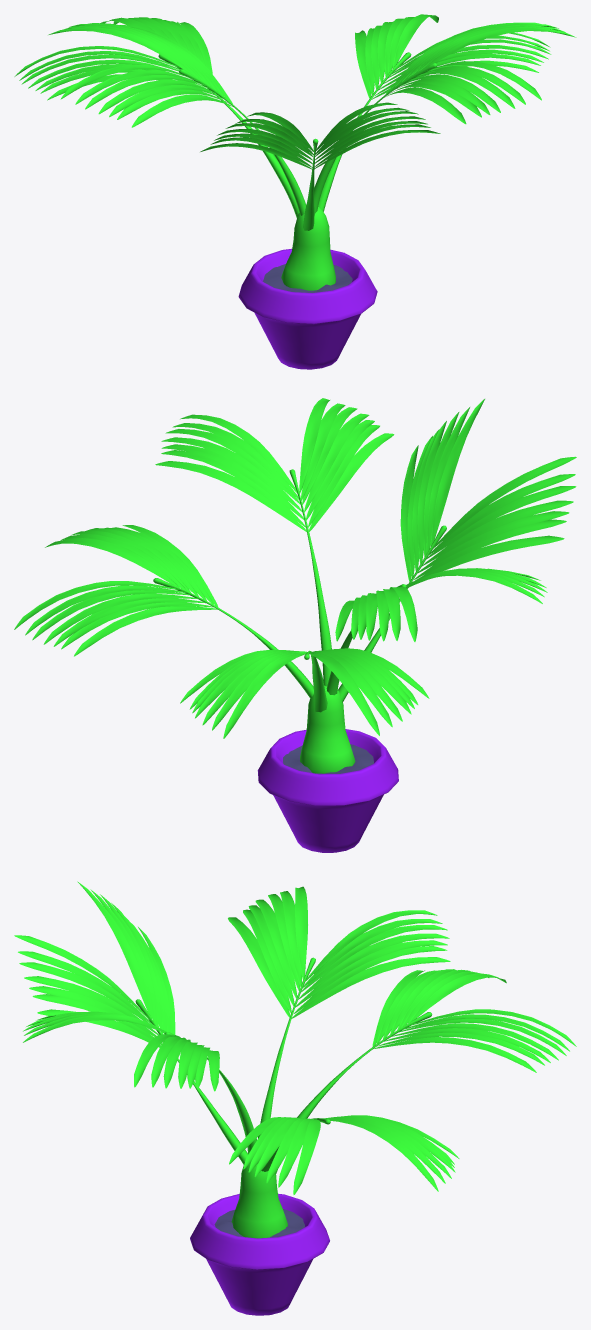
The model's file is cartoon_plant.obj.
The picture shows the model from 3 angles, top to bottom: view 1: azimuth 30°, elevation 25°; view 2: azimuth 150°, elevation 25°; view 3: azimuth 270°, elevation 25°; orthographic projection. The views are drawn at different scales.
Parts seen in each view (by area): view 1: pot_, leaf_4, leaf_1, leaf_5, leaf_2, leaf_3, plant, sand; view 2: leaf_1, leaf_5, leaf_2, pot_, leaf_3, leaf_4, plant, sand; view 3: leaf_4, leaf_5, leaf_3, pot_, leaf_2, leaf_1, plant, sand.
Part boxes in pixels (x1=…): pot_: x1=238, y1=248, x2=377, y2=369; leaf_4: x1=48, y1=23, x2=306, y2=215; leaf_1: x1=314, y1=22, x2=576, y2=214; leaf_5: x1=200, y1=102, x2=440, y2=230; leaf_2: x1=318, y1=14, x2=551, y2=211; leaf_3: x1=14, y1=17, x2=299, y2=217; plant: x1=281, y1=206, x2=335, y2=290; sand: x1=263, y1=264, x2=352, y2=292; leaf_1: x1=155, y1=398, x2=394, y2=686; leaf_5: x1=338, y1=399, x2=576, y2=702; leaf_2: x1=14, y1=525, x2=313, y2=698; pot_: x1=257, y1=729, x2=398, y2=852; leaf_3: x1=180, y1=648, x2=429, y2=738; leaf_4: x1=326, y1=568, x2=547, y2=695; plant: x1=300, y1=685, x2=355, y2=773; sand: x1=283, y1=744, x2=373, y2=774; leaf_4: x1=228, y1=886, x2=450, y2=1138; leaf_5: x1=14, y1=881, x2=248, y2=1164; leaf_3: x1=275, y1=969, x2=576, y2=1173; pot_: x1=190, y1=1193, x2=329, y2=1315; leaf_2: x1=229, y1=1115, x2=459, y2=1194; leaf_1: x1=23, y1=1011, x2=256, y2=1154; plant: x1=231, y1=1162, x2=287, y2=1238; sand: x1=214, y1=1209, x2=305, y2=1237.
Size of the model in its own units: 716 by 489 by 708.
